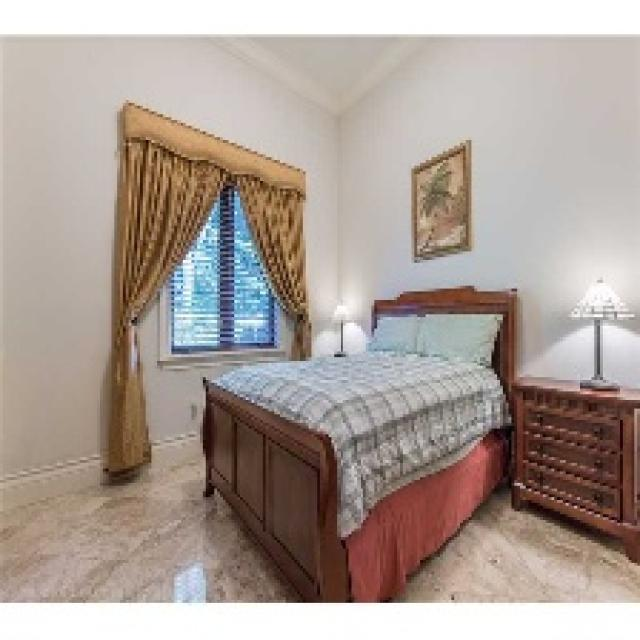Bed: (200, 283, 517, 600)
